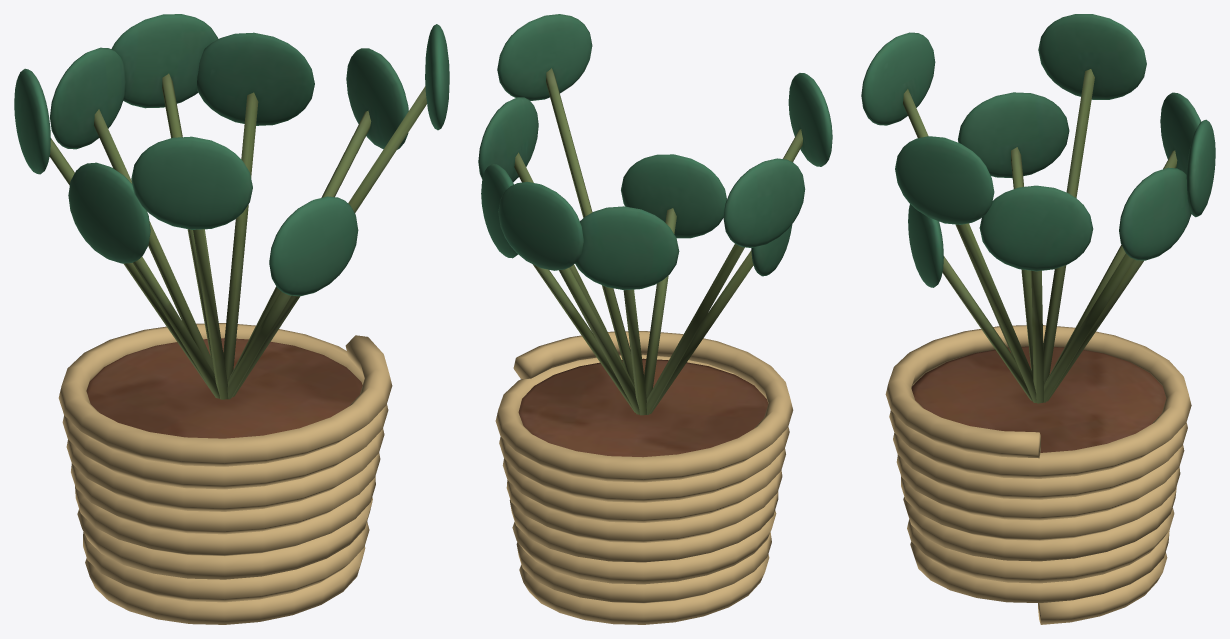
Rendered from plant_round.glb.
3 renders of one model, left to right at view 1: azimuth 30°, elevation 25°; view 2: azimuth 150°, elevation 25°; view 3: azimuth 270°, elevation 25°, orthographic. The views are drawn at different scales.
Visible parts, largest first — view 1: plant_round_hemp, plant_round_felt_tree_tall2, plant_round_felt_brown, plant_round_felt_moss; view 2: plant_round_hemp, plant_round_felt_tree_tall2, plant_round_felt_brown, plant_round_felt_moss; view 3: plant_round_hemp, plant_round_felt_tree_tall2, plant_round_felt_brown, plant_round_felt_moss.
Boxes of the visible parts, x1=… form: plant_round_hemp: x1=58, y1=323, x2=392, y2=624; plant_round_felt_tree_tall2: x1=14, y1=14, x2=449, y2=296; plant_round_felt_brown: x1=86, y1=338, x2=362, y2=438; plant_round_felt_moss: x1=49, y1=73, x2=426, y2=399; plant_round_hemp: x1=495, y1=331, x2=793, y2=624; plant_round_felt_tree_tall2: x1=478, y1=14, x2=832, y2=290; plant_round_felt_brown: x1=518, y1=358, x2=768, y2=457; plant_round_felt_moss: x1=514, y1=68, x2=802, y2=415; plant_round_hemp: x1=885, y1=325, x2=1191, y2=624; plant_round_felt_tree_tall2: x1=861, y1=14, x2=1215, y2=287; plant_round_felt_brown: x1=911, y1=346, x2=1166, y2=452; plant_round_felt_moss: x1=903, y1=69, x2=1177, y2=403.
Size of the model in its own units: 0.8316 by 1.19 by 0.7481.
4 materials, 3 textured.
